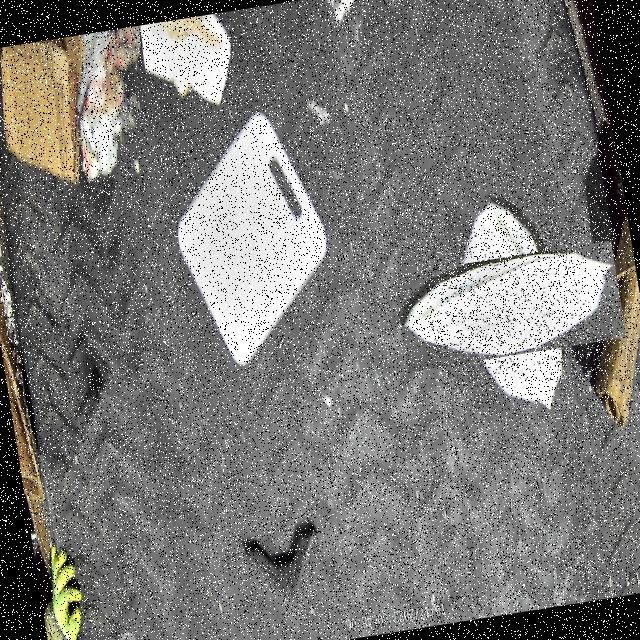milk-jug: (417, 215, 600, 397)
